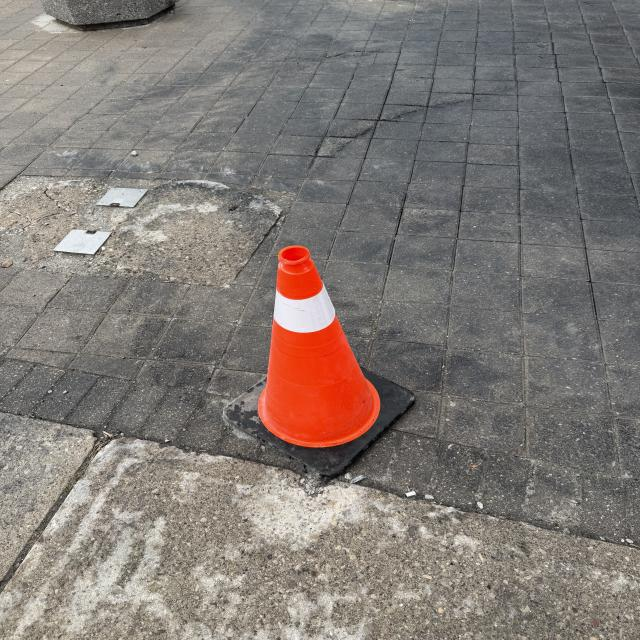Traffic Cone: (224, 246, 420, 482)
